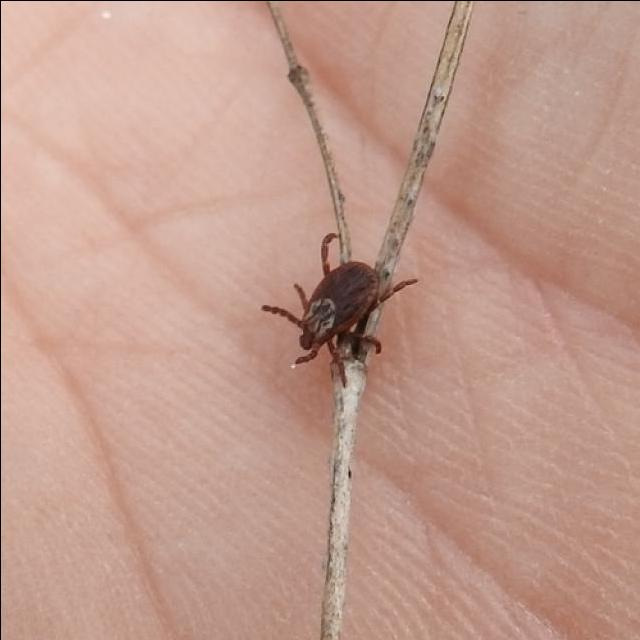Dermacentor Reticulatus-F: (260, 231, 417, 378)
